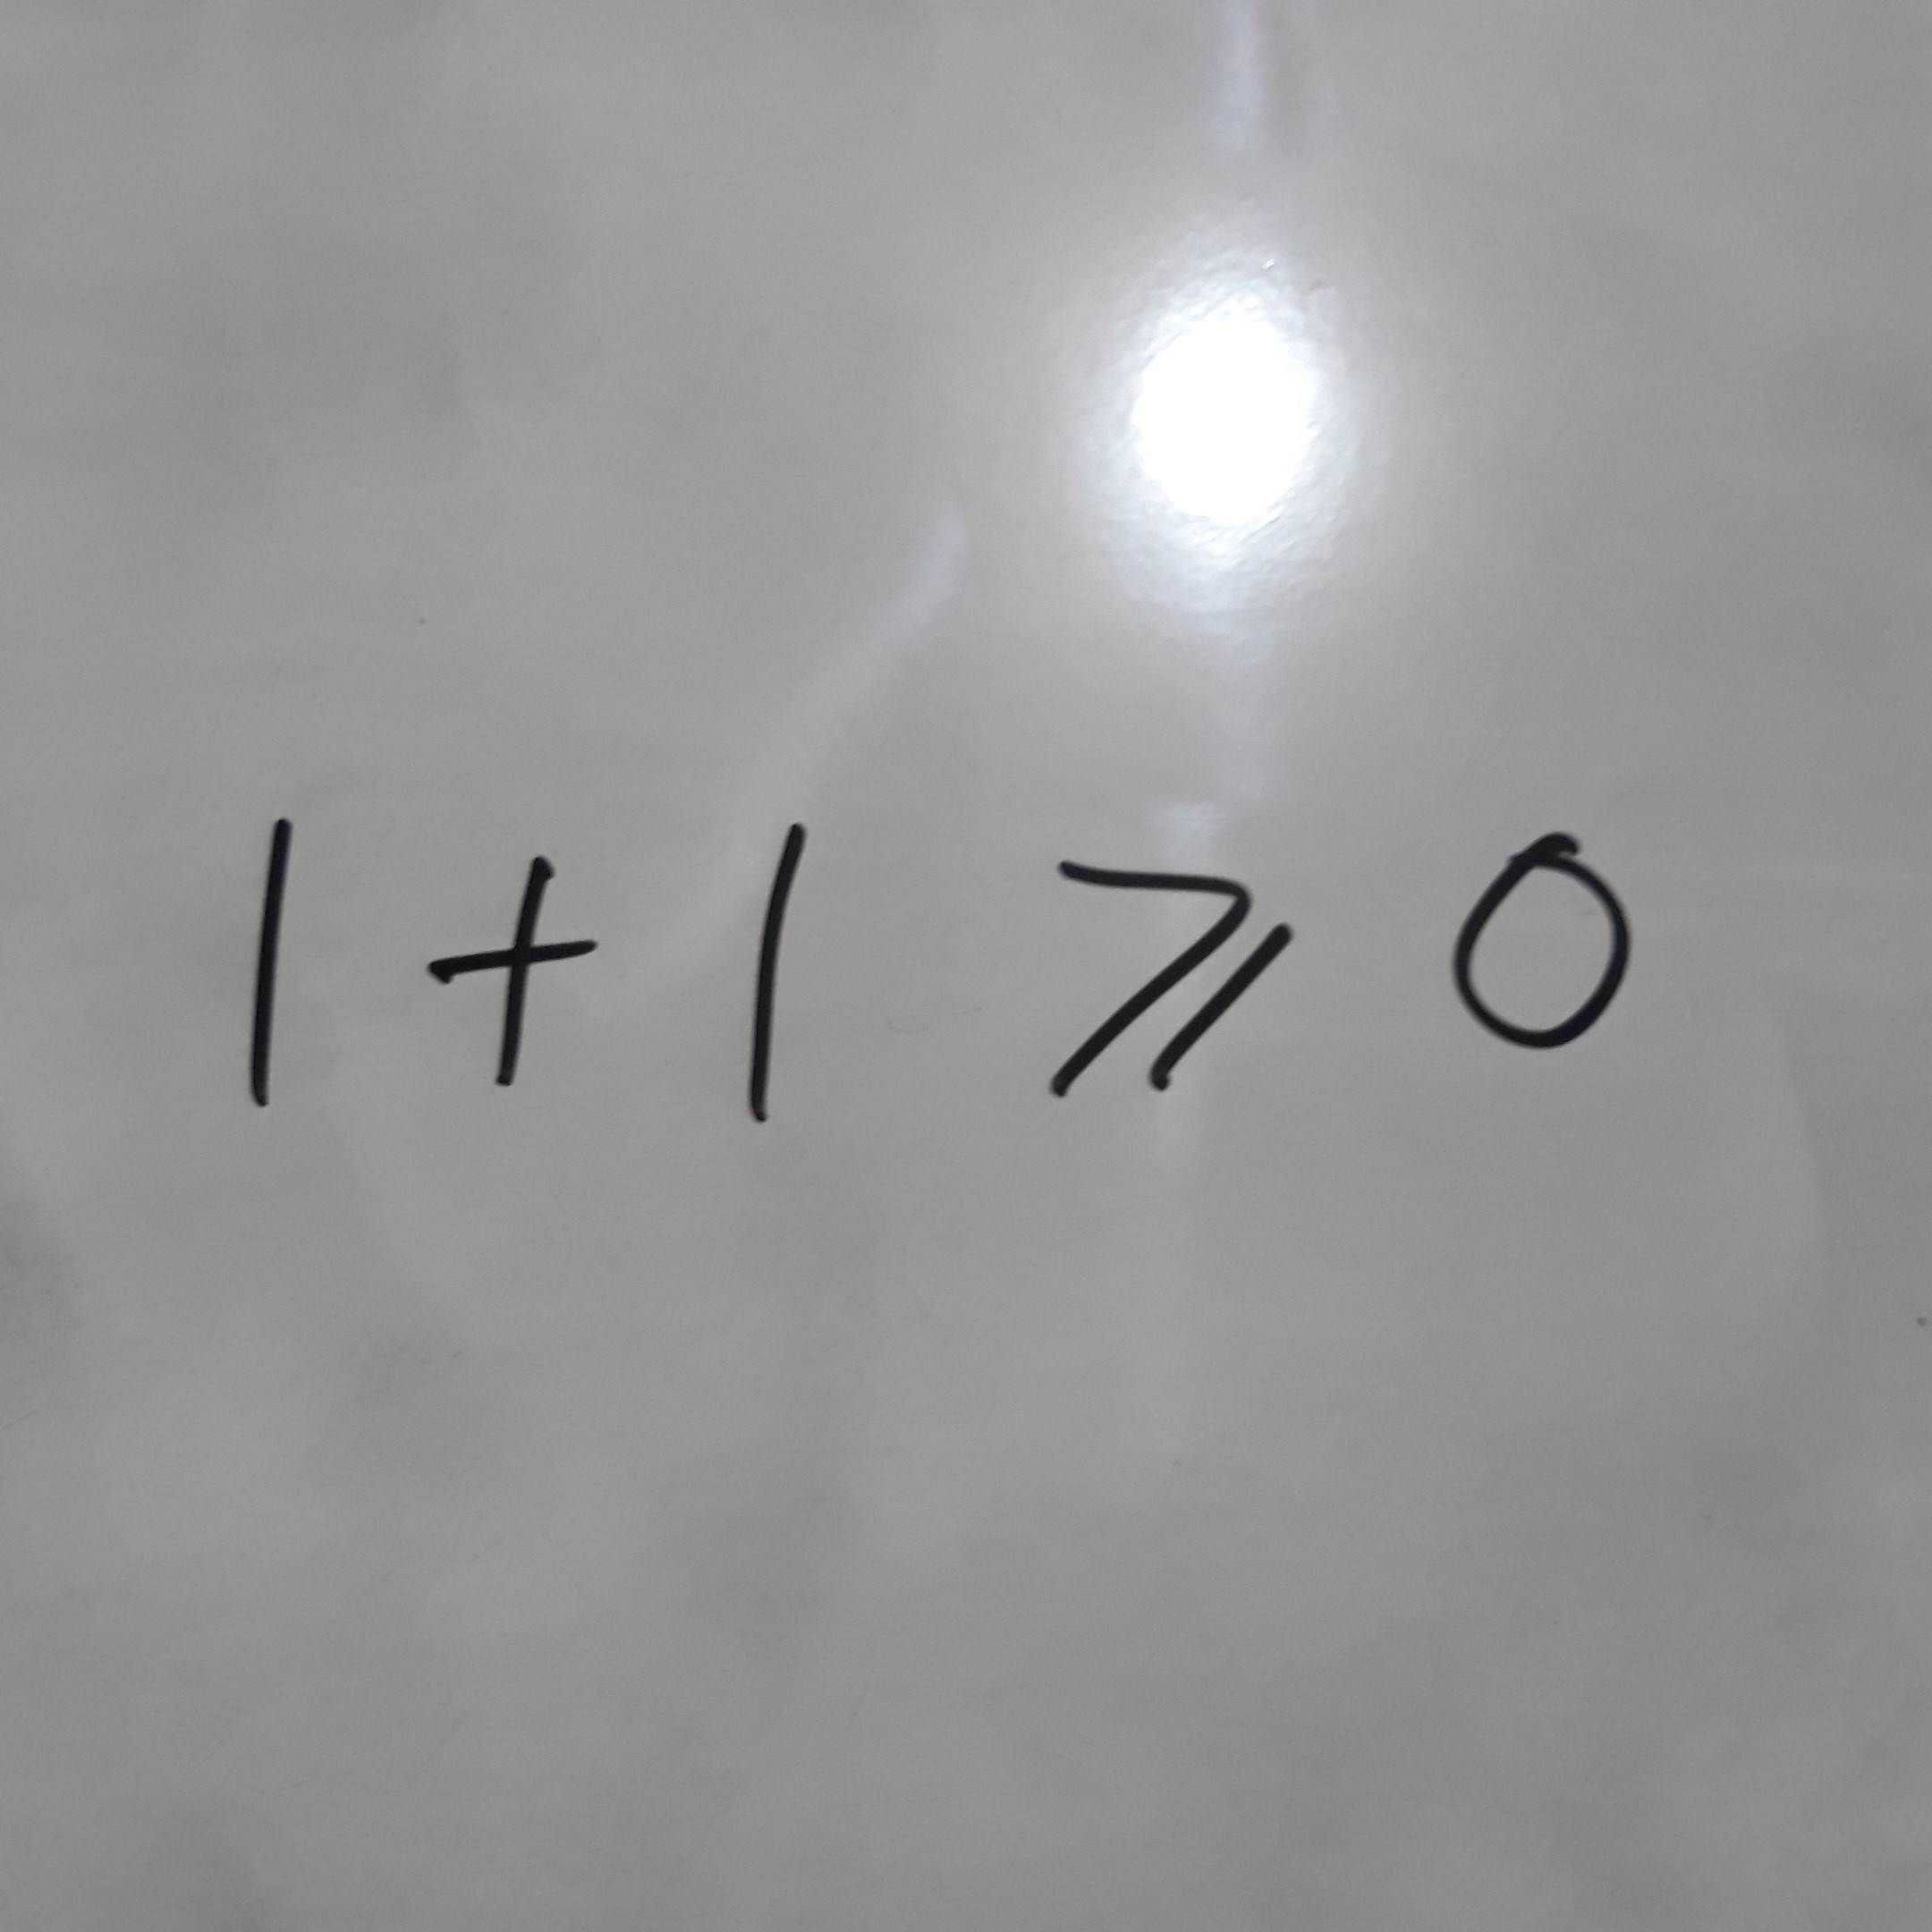morethan-equal: (1021, 843, 1301, 1121)
num0: (1402, 806, 1682, 1083)
num1: (716, 785, 829, 1157), (211, 801, 337, 1132)
sum: (416, 852, 621, 1098)
